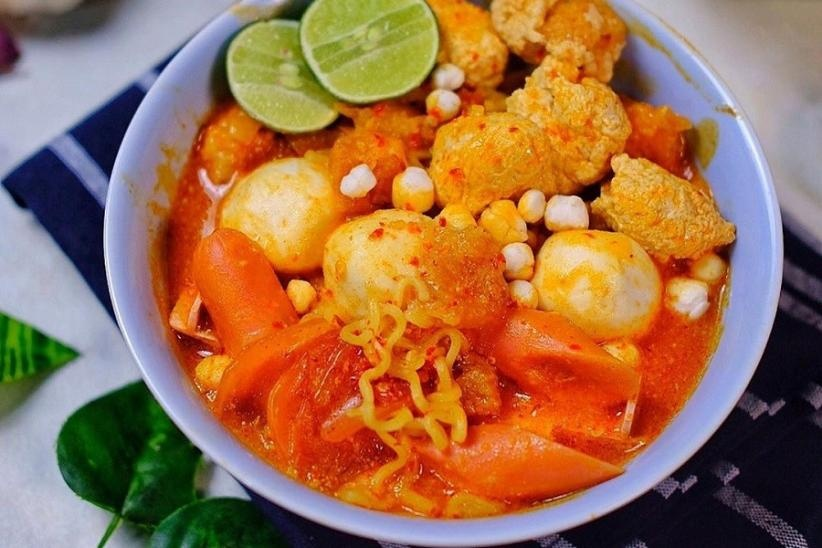seblak: (171, 1, 732, 517)
